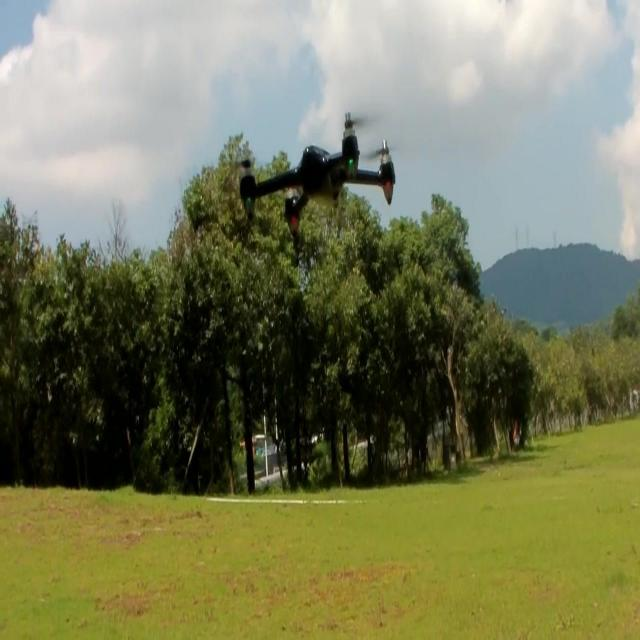UAV: (232, 107, 398, 237)
